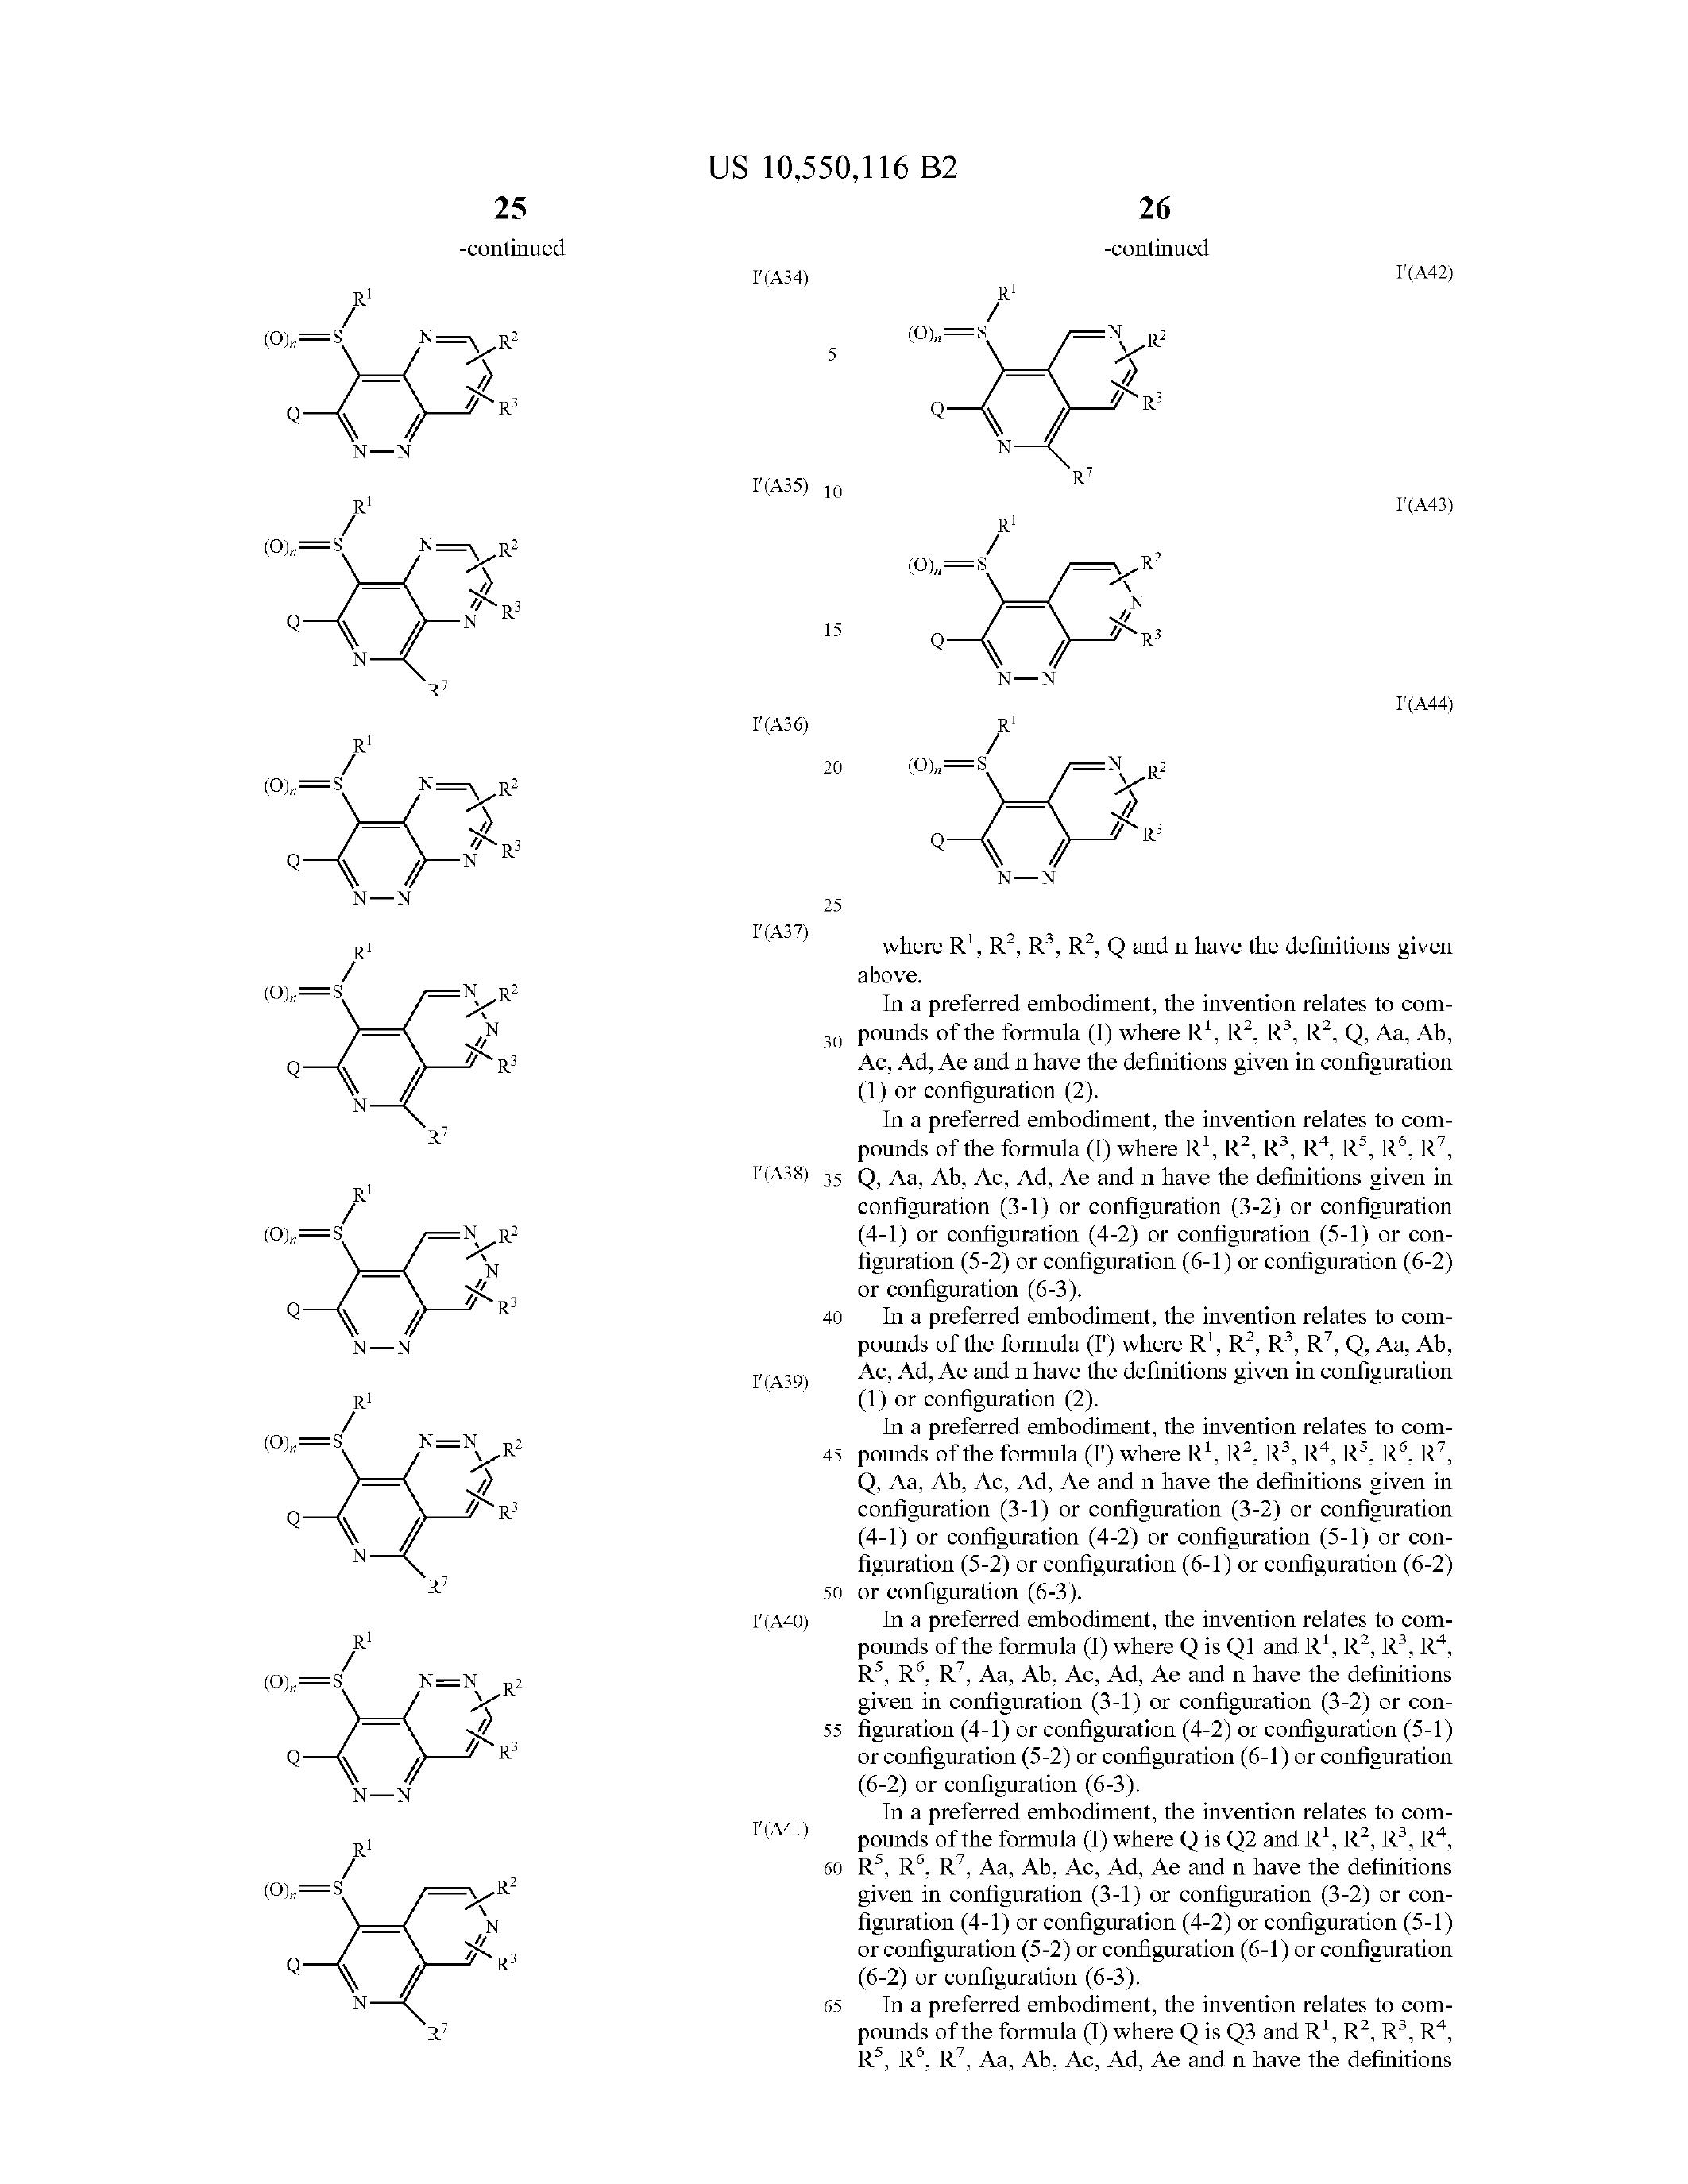substitutes: (152, 1792, 585, 2049)
